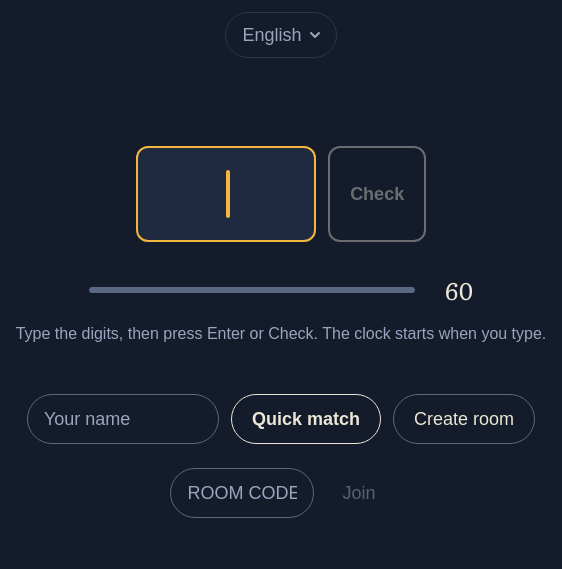
joining › sends the player's name and remembers it
Type "Ada" into the field labelled "Your name" at (123, 419), box [27,394,219,444]
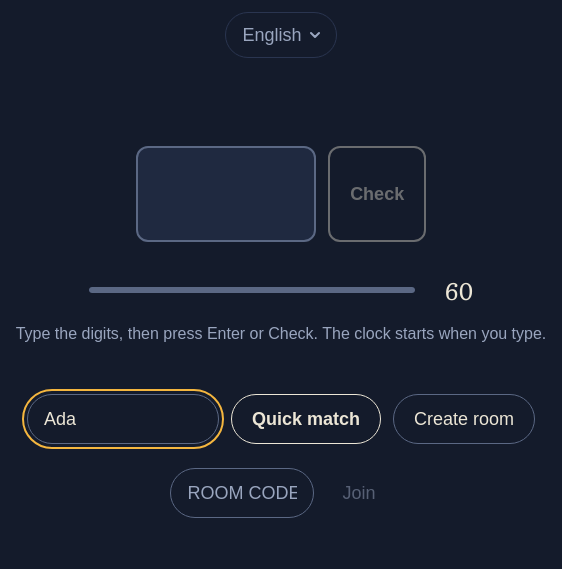
Click the button "Quick match" at (306, 419), box [231,394,381,444]
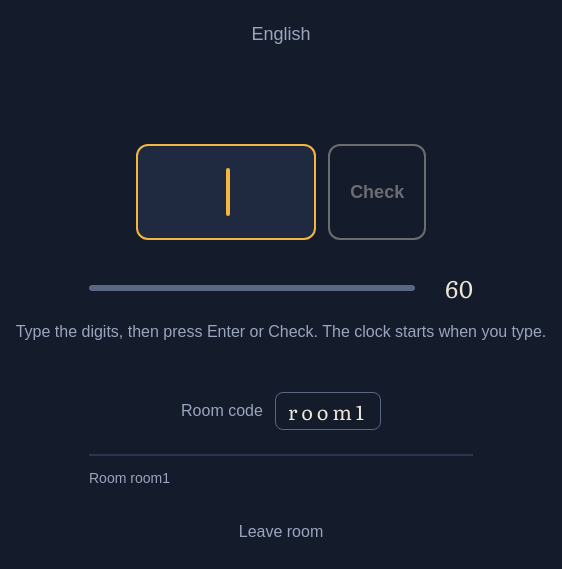
Check: the button "Leave room" is shown, box [223,512,339,552]
